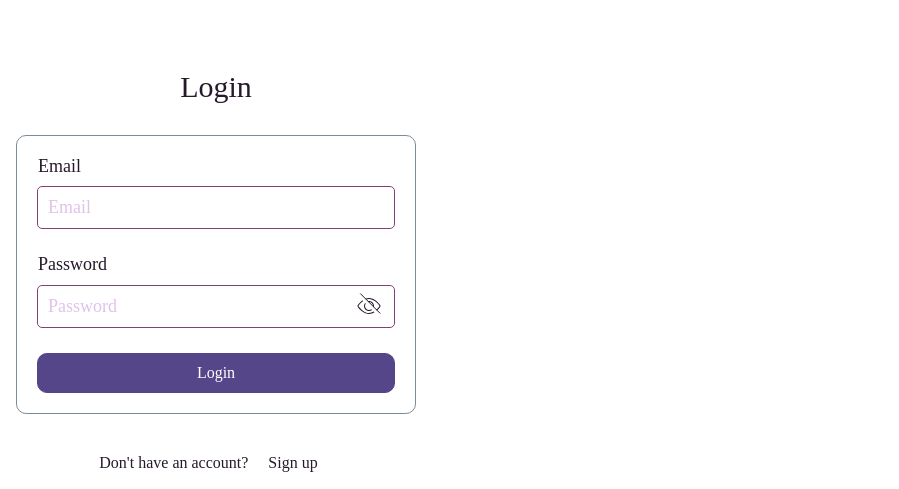
Scenario: AuthForm Component › handles form submissions for the scenario where a user does not exist
The image size is (899, 489).
Type "nonexistent@example.com" into the field labelled "Email". click: (216, 208)
box: [38, 187, 394, 228]
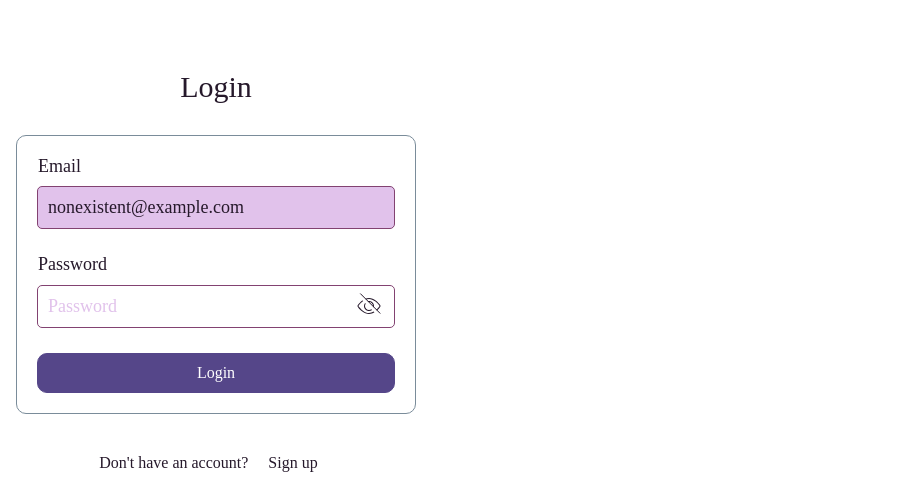
Type "password123!" into the password field labelled "Password". click: (191, 306)
box: [38, 286, 344, 327]
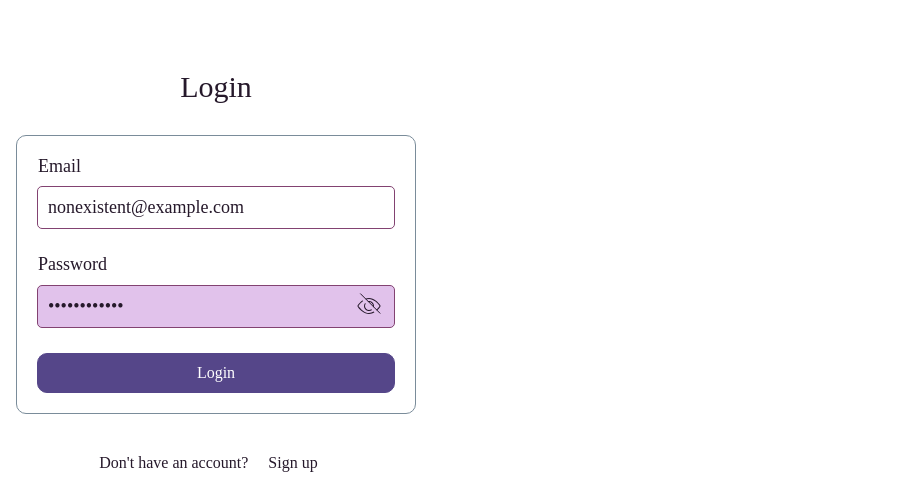
Click the button "Login". click: click(216, 373)
box: [37, 353, 395, 393]
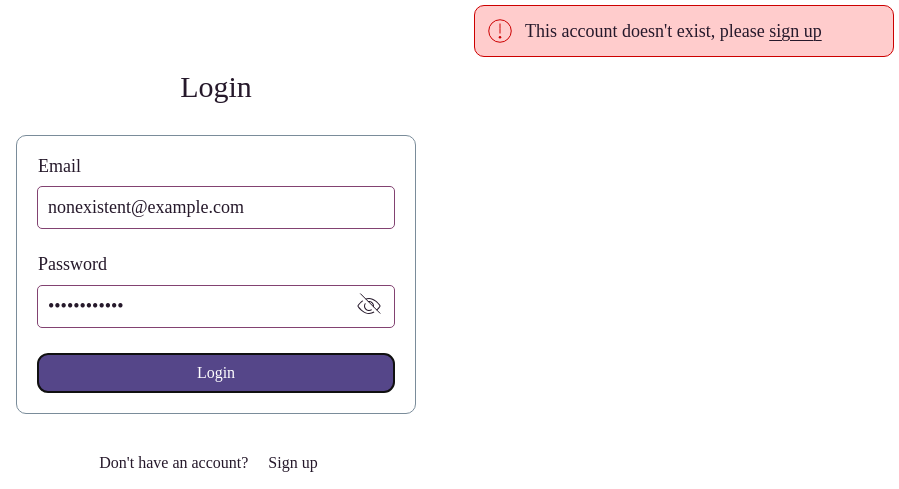
Check: the picture with alt text "notification" is shown, box [485, 16, 515, 46]
Check: the text "This account doesn't exist, please" is shown, box [525, 21, 769, 41]
